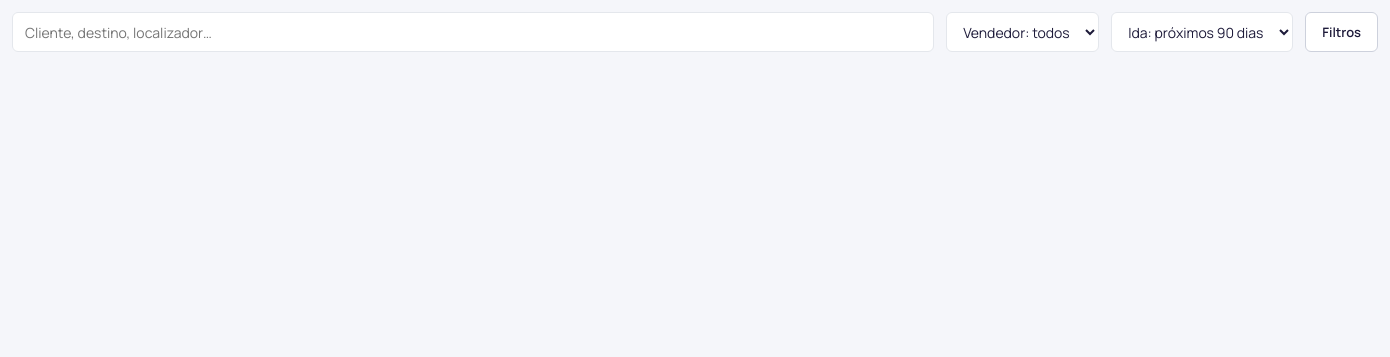
Test: clicar Filtros abre o painel e mostra os chips de fornecedor
Click the button "Filtros". click: click(1342, 32)
box: [1305,12,1378,52]
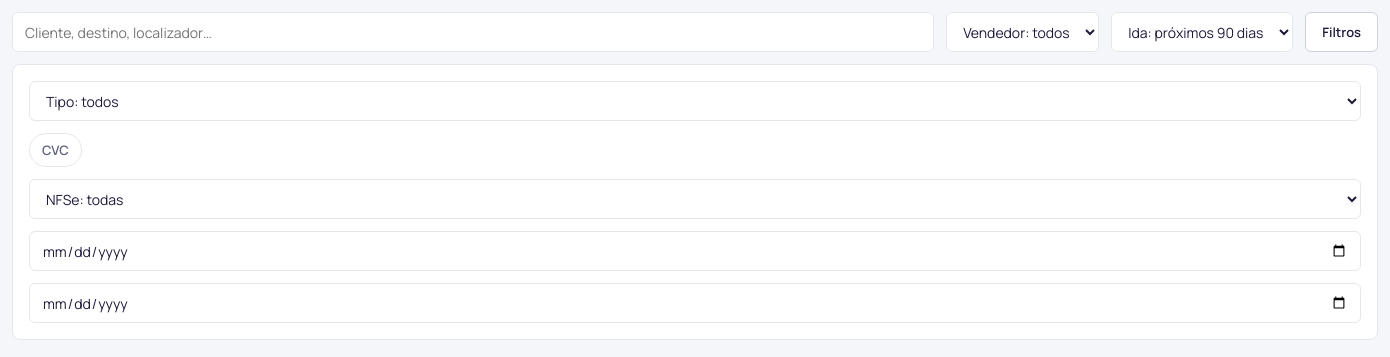
expect the button "CVC" is shown: met, box [29,133,82,167]
